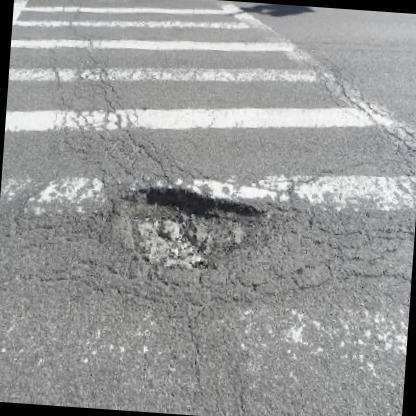pothole: (106, 186, 268, 272)
